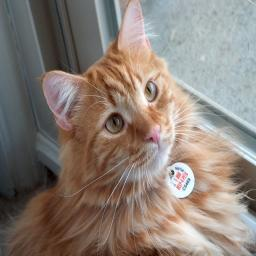catnose: (145, 126, 161, 147)
